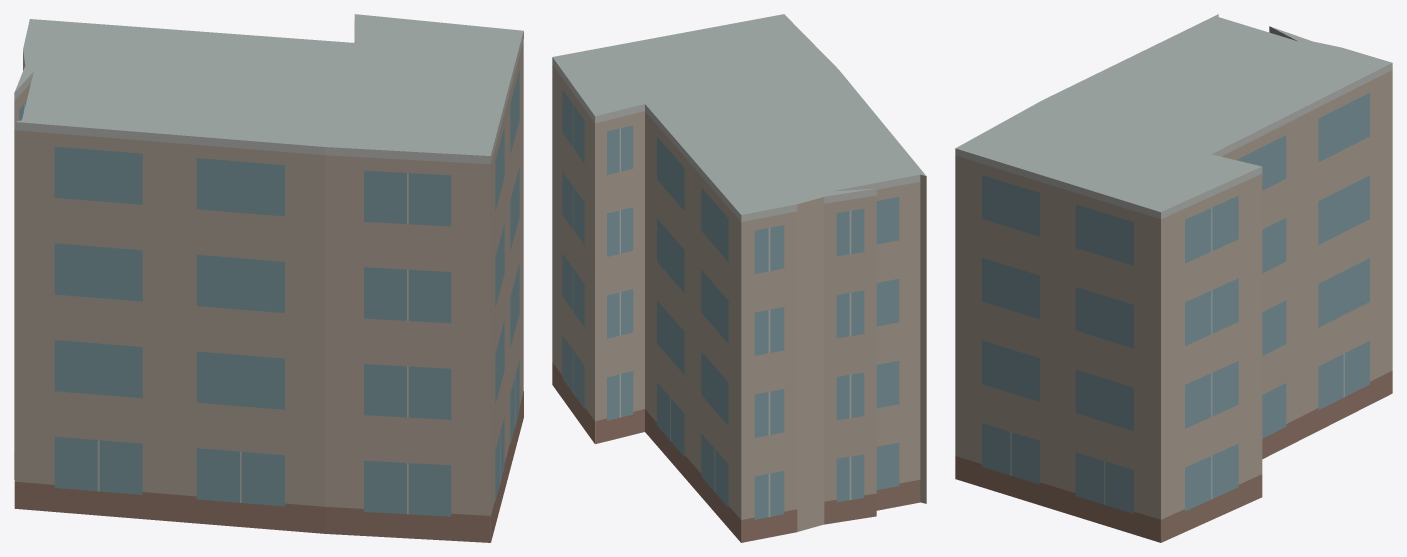
Rendered from survey-upis-32830858.glb.
3 renders of one model, left to right at view 1: azimuth 30°, elevation 25°; view 2: azimuth 150°, elevation 25°; view 3: azimuth 270°, elevation 25°, orthographic. The views are drawn at different scales.
Visible parts, largest first — view 1: survey-upis-32830858.tmp; view 2: survey-upis-32830858.tmp; view 3: survey-upis-32830858.tmp.
Part boxes in pixels (x1,y1,x2,y2): survey-upis-32830858.tmp: (14, 14, 523, 542); survey-upis-32830858.tmp: (552, 14, 926, 542); survey-upis-32830858.tmp: (955, 14, 1392, 542).
Size of the model in its own units: 14.73 by 11.45 by 13.74.
